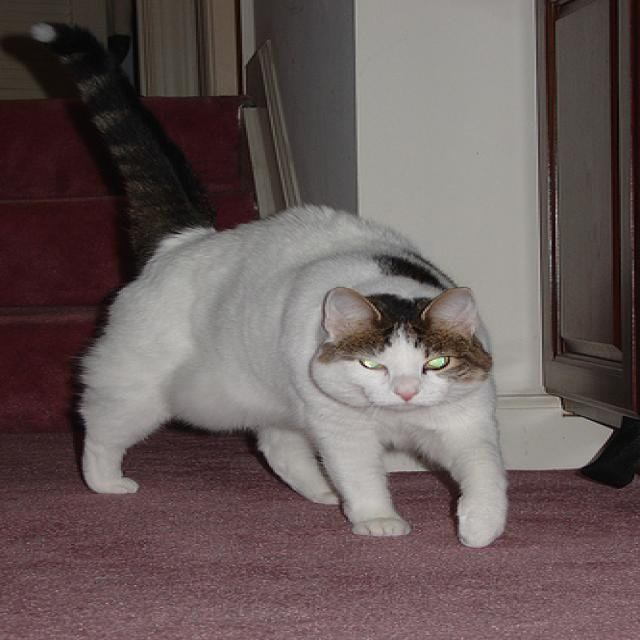left eye: (421, 353, 452, 371)
